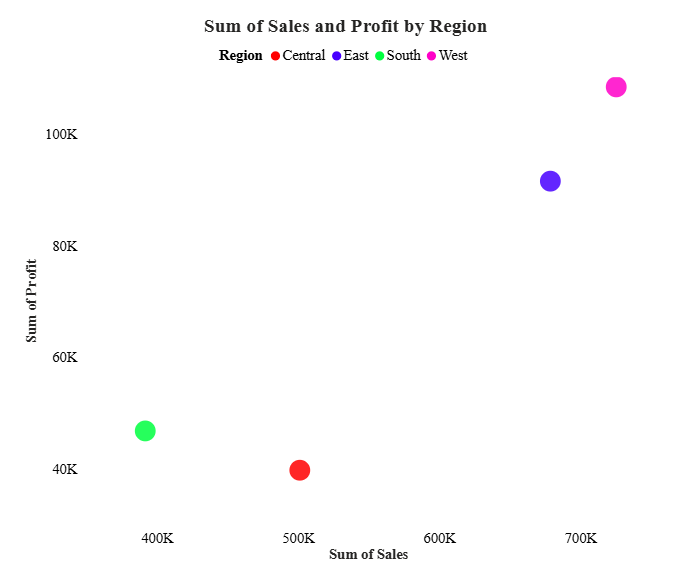

Layout of this report page (visuals, bound fields, positions):
{"tool":"powerbi","page":{"name":"Page 5","canvas":[1280,720],"ordinal":4},"visuals":[{"type":"scatterChart","title":"Sum of Sales and Profit by Region","fields":{"X":["Sum(Superstore.Sales)"],"Y":["Sum(Superstore.Profit)"],"Series":["Superstore.Region"]},"box":[277.2,74.1,716.3,606.5],"z":0}]}

Visuals, with their boxes on the page's 1280x720 design canvas (x1, y1, x2, y2). These are canvas units, not pixel positions in the 678x575 screenshot, which may show the page scaled, cropped or inside an application window:
"Sum of Sales and Profit by Region" scatterChart: left=277, top=74, right=994, bottom=681
